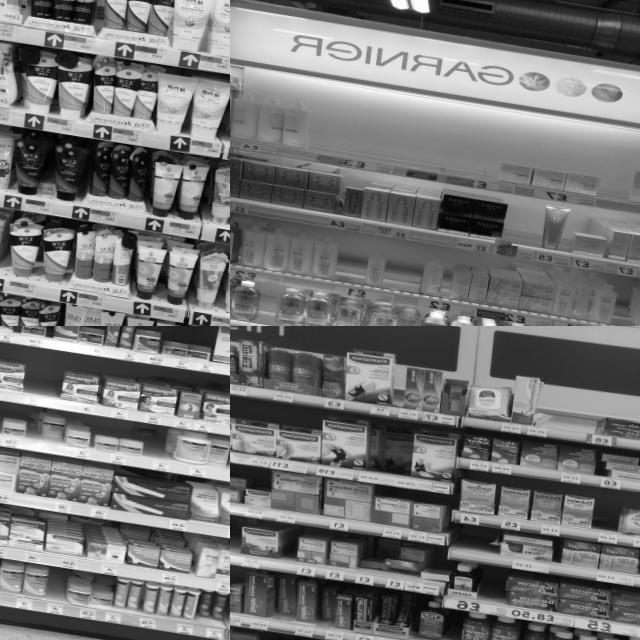empty: (306, 112, 401, 174), (444, 142, 502, 192), (500, 197, 546, 260), (382, 242, 425, 306), (330, 233, 370, 297), (398, 130, 447, 182), (24, 349, 66, 408), (594, 165, 632, 211), (548, 408, 596, 444), (456, 523, 497, 565), (592, 492, 621, 544), (478, 566, 508, 616), (251, 283, 277, 326), (610, 280, 634, 326), (44, 568, 68, 614), (142, 434, 166, 471), (440, 609, 462, 640)
